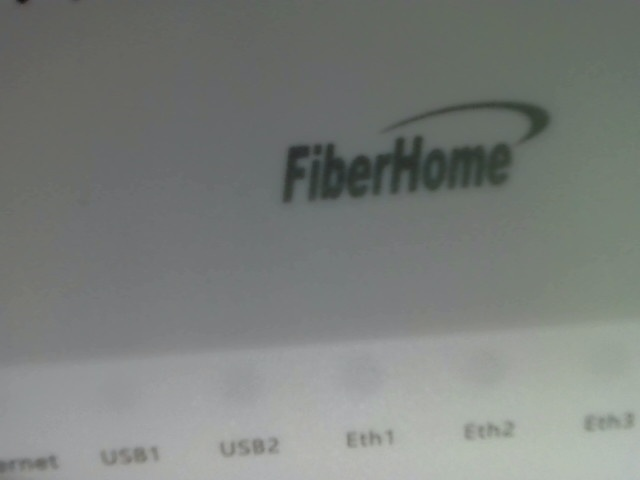AI_FiberHome: (257, 87, 562, 212)
